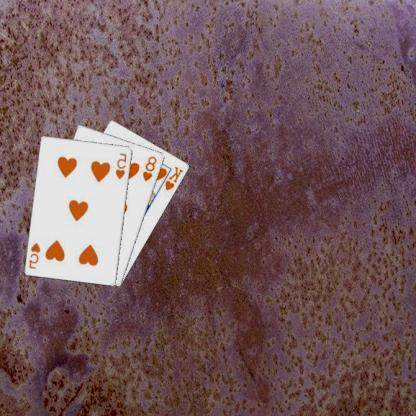5H: (115, 150, 130, 180), (29, 240, 43, 270)
8H: (142, 154, 160, 182)
KH: (164, 163, 186, 192)
